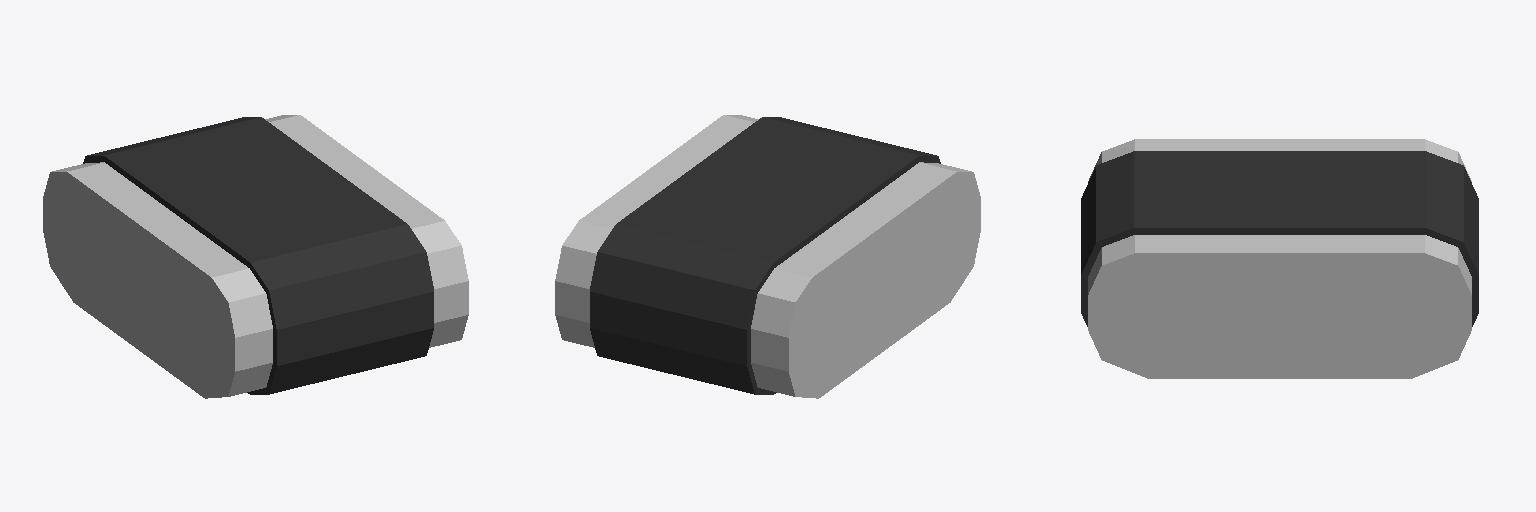
The model's file is EnemyTankBase.obj.
3 views of the same model, side by side, from view 1: azimuth 30°, elevation 25°; view 2: azimuth 150°, elevation 25°; view 3: azimuth 270°, elevation 25° (orthographic).
Parts seen in each view (by area): view 1: Cube.011; view 2: Cube.011; view 3: Cube.011.
Part boxes in pixels (bbox=[...]): Cube.011: bbox=[43, 115, 468, 398]; Cube.011: bbox=[555, 115, 980, 398]; Cube.011: bbox=[1081, 139, 1478, 378].
Bounding box in the file's own units: 0.5335 × 0.2891 × 0.7885.